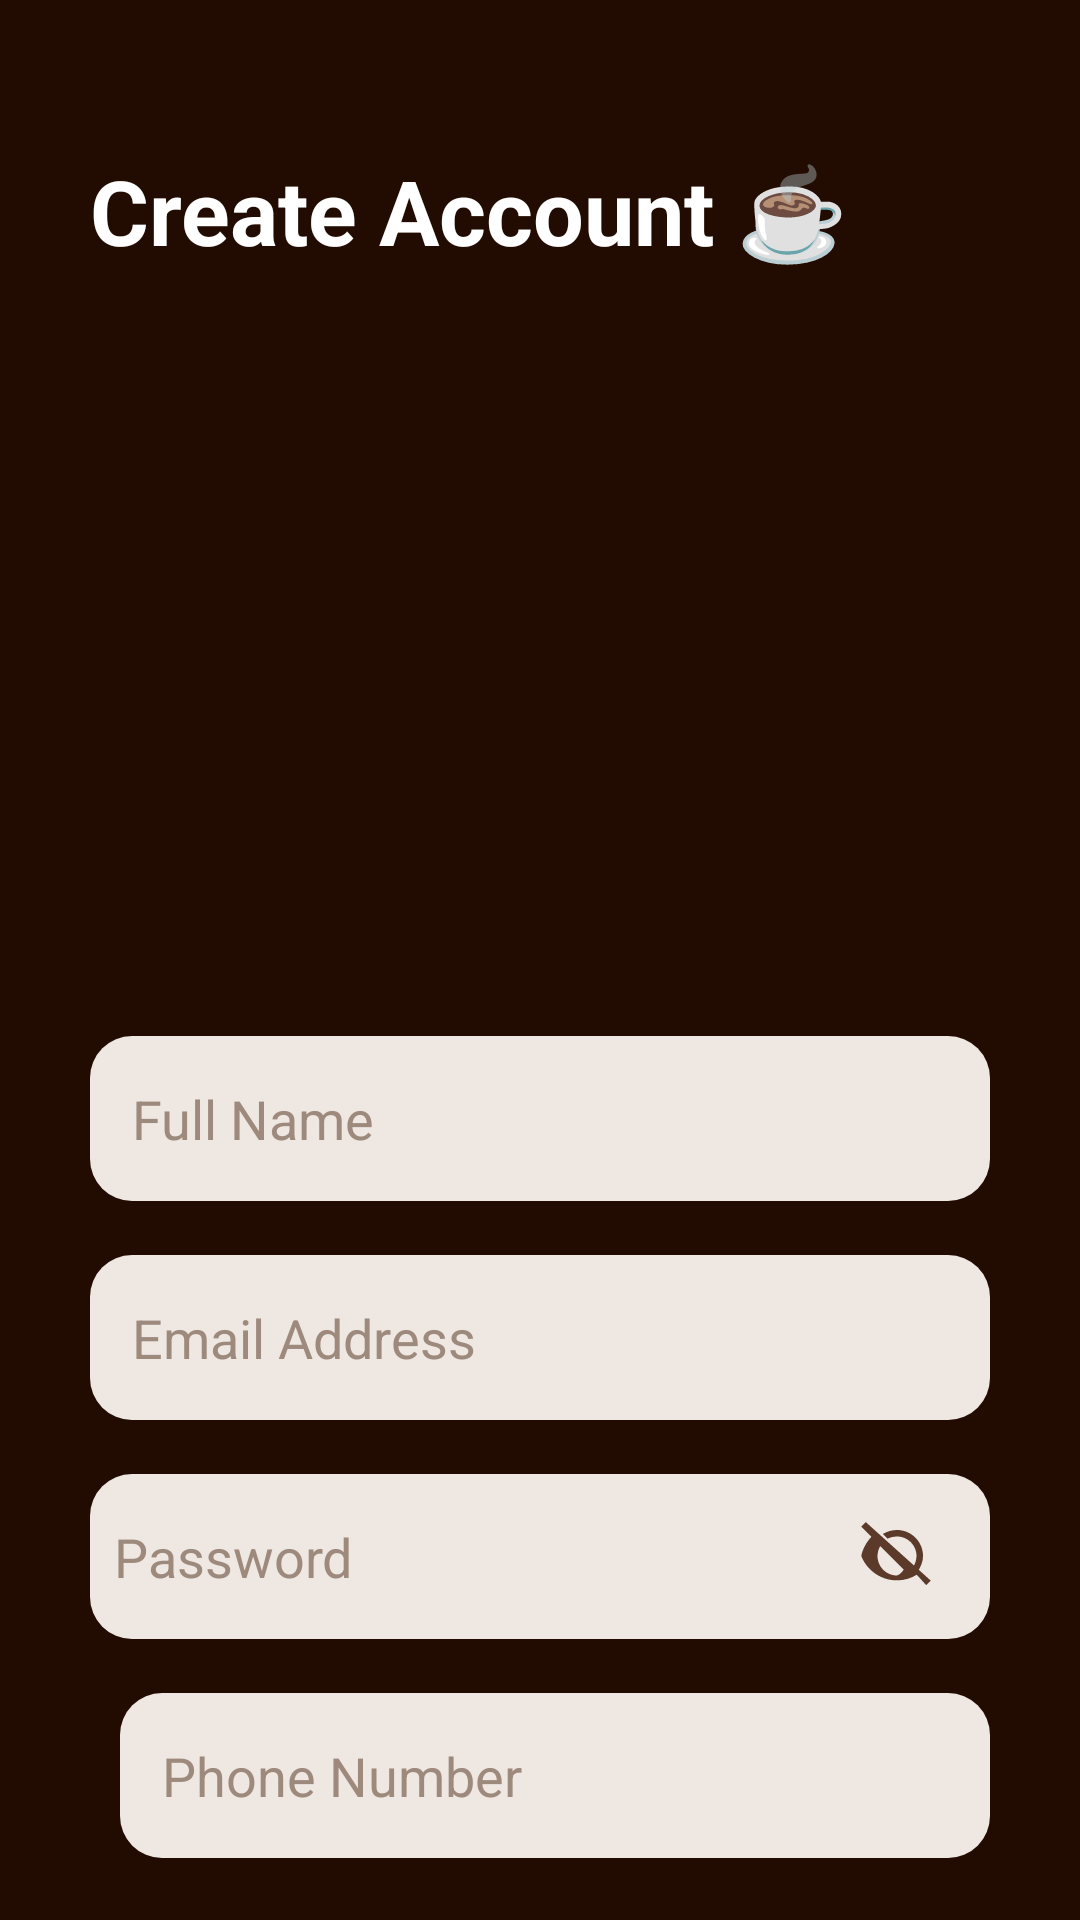

Screen size 1080w x 1920h. Icon name, then its box in pixels as (x1, y1, x2, y2):
eye hide: (861, 1522, 931, 1585)
